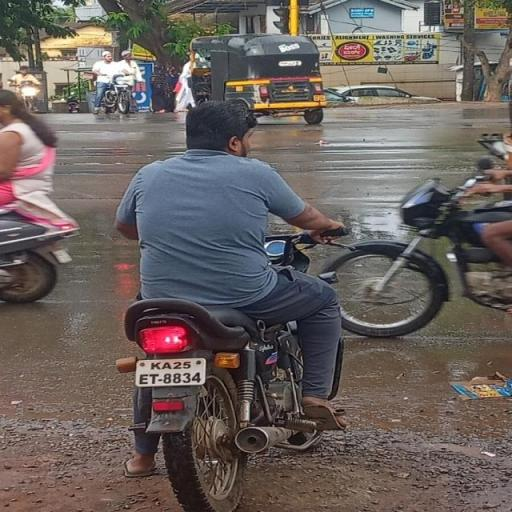bike: (105, 97, 359, 512)
numberplate: (136, 356, 211, 388)
withouthelmet: (186, 103, 252, 148)
